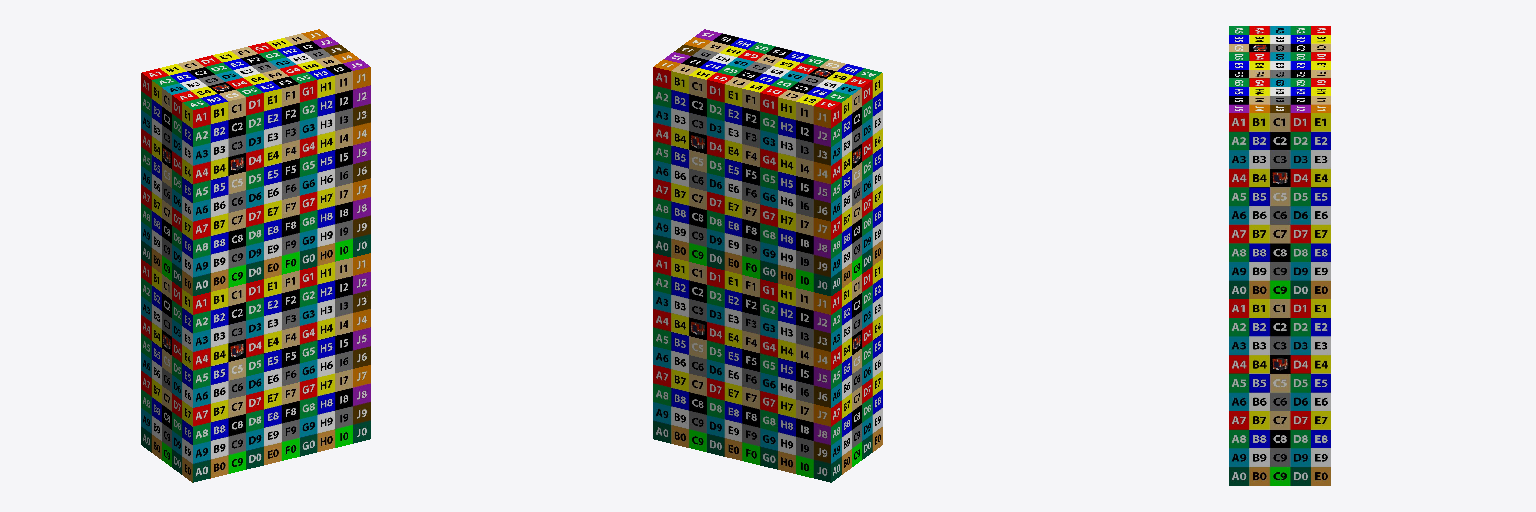
3 renders of one model, left to right at view 1: azimuth 30°, elevation 25°; view 2: azimuth 150°, elevation 25°; view 3: azimuth 270°, elevation 25°, orthographic.
Size of the model in its own units: 1 by 2 by 0.5.
1 materials, 1 textured.